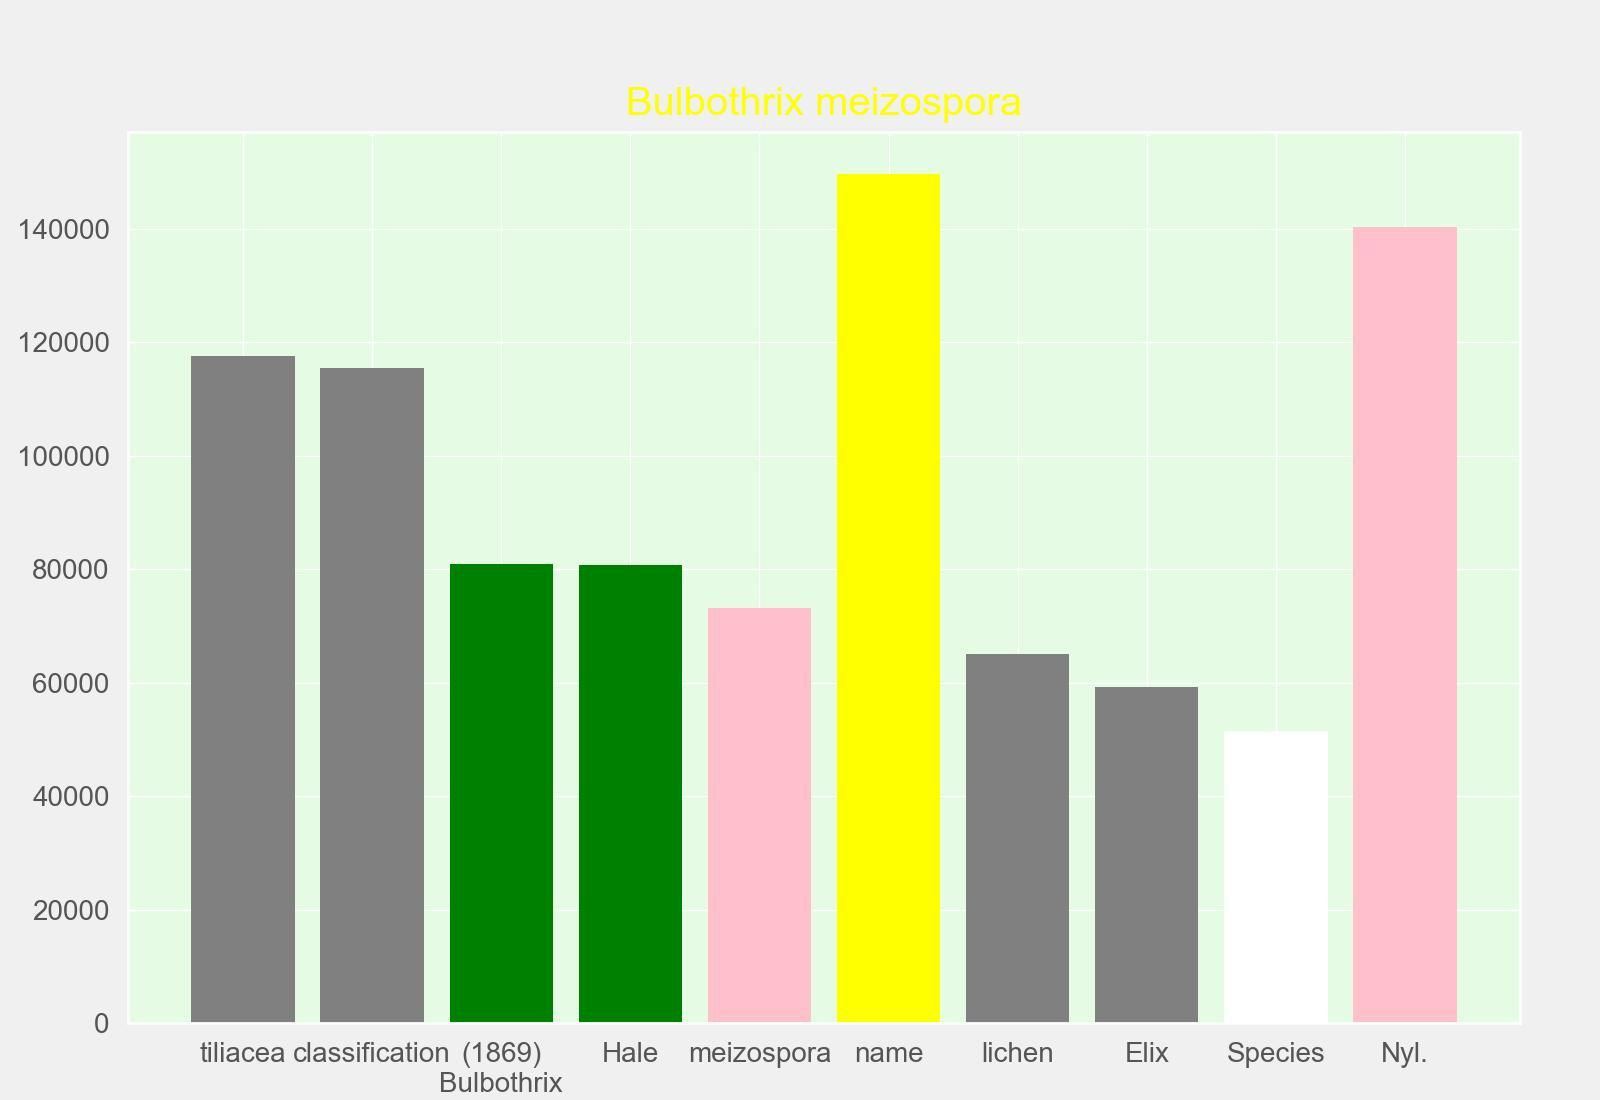axis: (0, 219, 109, 1039)
rectangle: (836, 174, 940, 1023), (1353, 227, 1457, 1023), (192, 356, 294, 1023), (321, 368, 423, 1023), (579, 565, 682, 1023), (450, 564, 552, 1023), (708, 608, 811, 1023), (967, 654, 1069, 1023), (1095, 687, 1199, 1023), (1224, 730, 1328, 1023)
